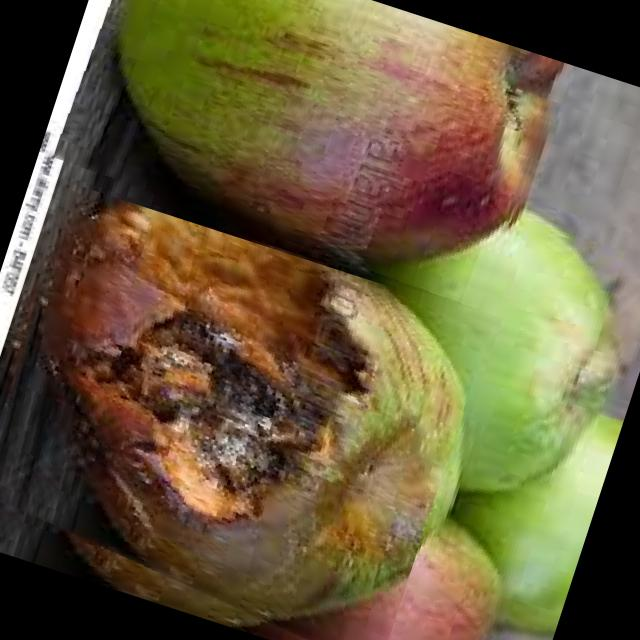Organic: (0, 179, 491, 640), (34, 0, 568, 312), (383, 221, 640, 640)
